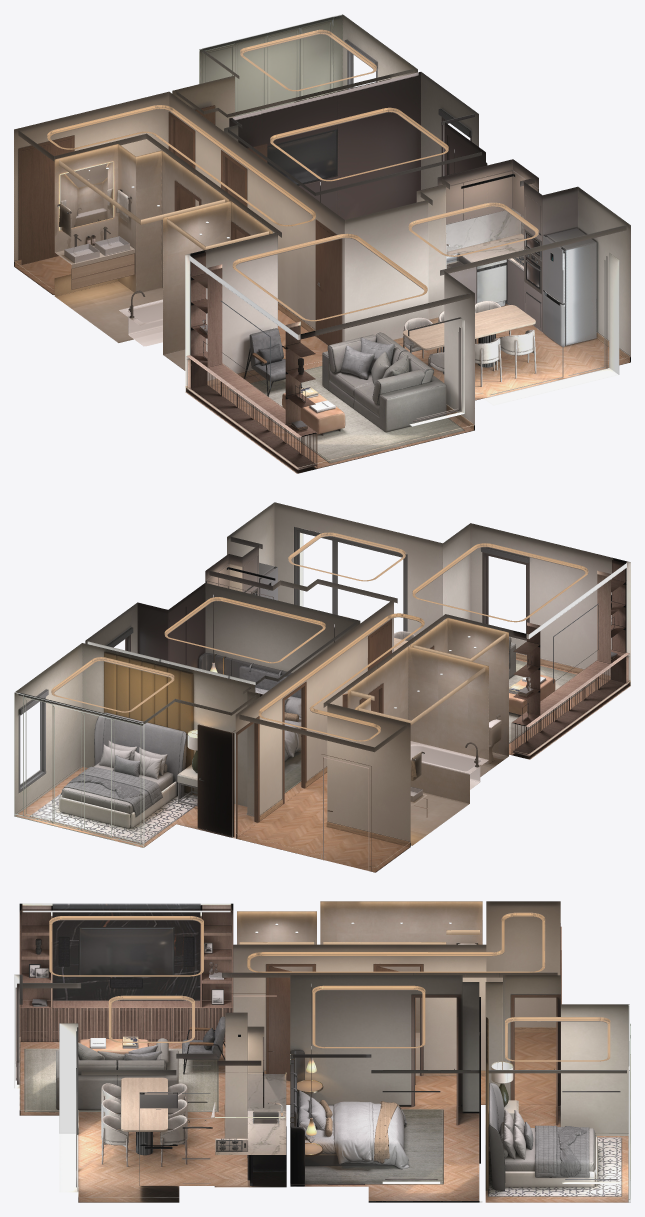
Rendered from appartement_compressed.glb.
3 views of the same model, one above another, from view 1: azimuth 30°, elevation 25°; view 2: azimuth 150°, elevation 25°; view 3: azimuth 270°, elevation 25° (orthographic). The views are drawn at different scales.
Visible parts, largest first — view 1: Sala_Cozinha_4, Banheiros_Corredor_0, Quartos_3, Teto_1; view 2: Quartos_3, Banheiros_Corredor_0, Sala_Cozinha_4, Teto_1, Chambre01_Meuble_Lit_2; view 3: Sala_Cozinha_4, Quartos_3, Banheiros_Corredor_0, Teto_1, Chambre01_Meuble_Lit_2.
Boxes of the visible parts, bbox=[...] form: Sala_Cozinha_4: bbox=[185, 159, 630, 473]; Banheiros_Corredor_0: bbox=[14, 91, 344, 370]; Quartos_3: bbox=[168, 14, 487, 238]; Teto_1: bbox=[18, 29, 626, 339]; Quartos_3: bbox=[14, 583, 360, 847]; Banheiros_Corredor_0: bbox=[235, 599, 508, 872]; Sala_Cozinha_4: bbox=[205, 502, 630, 759]; Teto_1: bbox=[18, 532, 626, 752]; Chambre01_Meuble_Lit_2: bbox=[60, 687, 301, 816]; Sala_Cozinha_4: bbox=[14, 903, 286, 1202]; Quartos_3: bbox=[290, 975, 630, 1202]; Banheiros_Corredor_0: bbox=[230, 901, 561, 1104]; Teto_1: bbox=[22, 912, 626, 1075]; Chambre01_Meuble_Lit_2: bbox=[297, 1090, 595, 1177].
Bounding box in the file's own units: 7.05 × 2.51 × 10.66.
5 materials, 5 textured.
